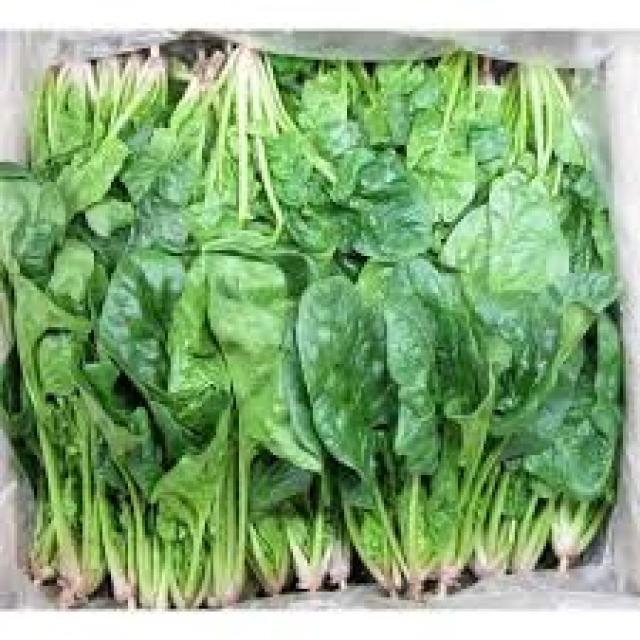Spinach bagged/loose: (296, 259, 566, 596), (82, 233, 313, 609)
